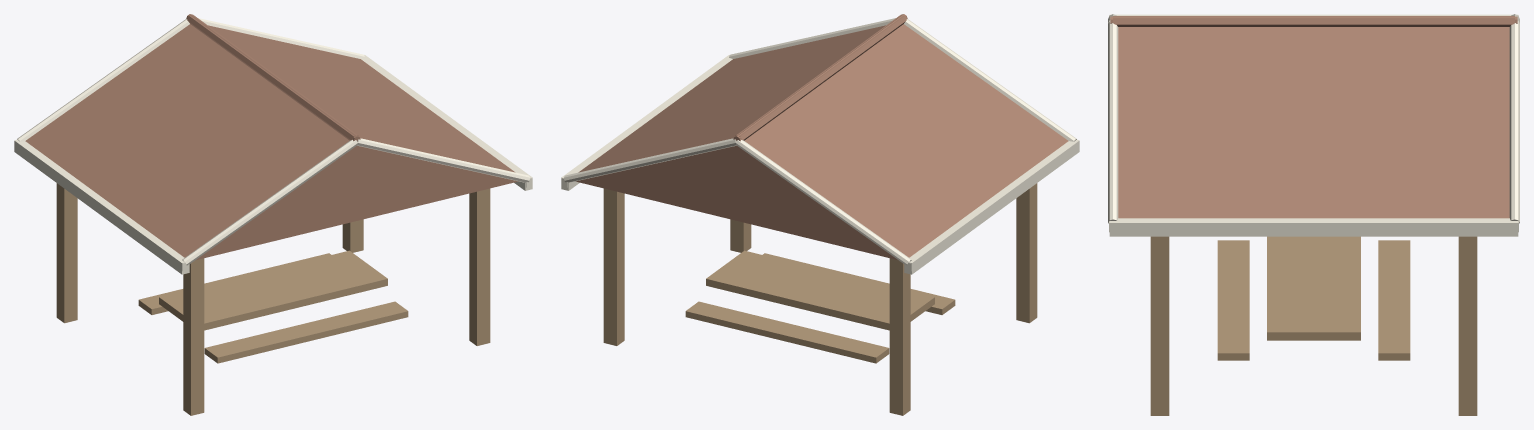
The picture shows the model from 3 angles, left to right: view 1: azimuth 30°, elevation 25°; view 2: azimuth 150°, elevation 25°; view 3: azimuth 270°, elevation 25°; orthographic projection. The views are drawn at different scales.
Size of the model in its own units: 7.36 by 5.11 by 6.15.
